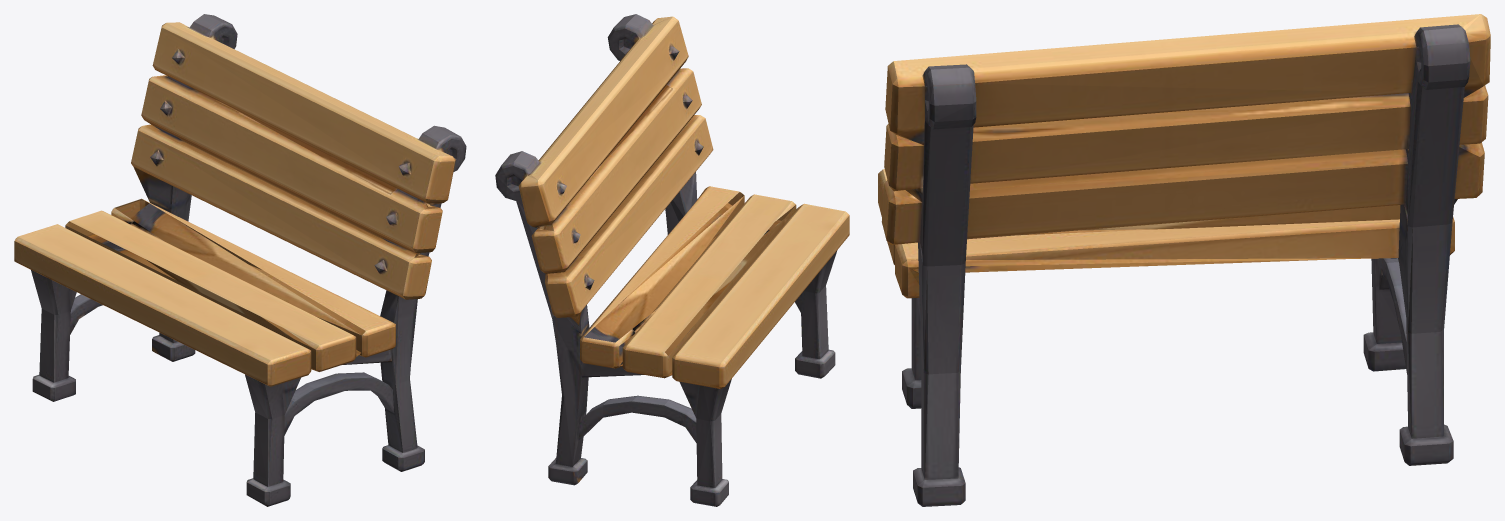
Rendered from seat-Cz00YeOK.glb.
3 renders of one model, left to right at view 1: azimuth 30°, elevation 25°; view 2: azimuth 150°, elevation 25°; view 3: azimuth 270°, elevation 25°, orthographic. The views are drawn at different scales.
Parts seen in each view (by area): view 1: tripo_node_e6ec3d54-0ec1-4304-bfc0-f498d9b82192; view 2: tripo_node_e6ec3d54-0ec1-4304-bfc0-f498d9b82192; view 3: tripo_node_e6ec3d54-0ec1-4304-bfc0-f498d9b82192.
Part boxes in pixels (x1,y1,x2,y2): tripo_node_e6ec3d54-0ec1-4304-bfc0-f498d9b82192: (14, 14, 466, 506); tripo_node_e6ec3d54-0ec1-4304-bfc0-f498d9b82192: (495, 14, 849, 506); tripo_node_e6ec3d54-0ec1-4304-bfc0-f498d9b82192: (878, 14, 1490, 506).
Bounding box in the file's own units: 0.7409 × 0.8098 × 0.9783.
1 material, 1 textured.
